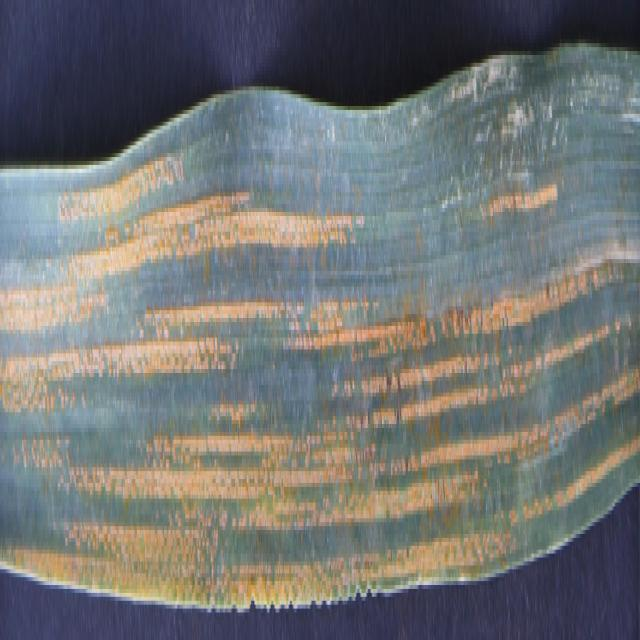leaf rust: (1, 177, 637, 632)
